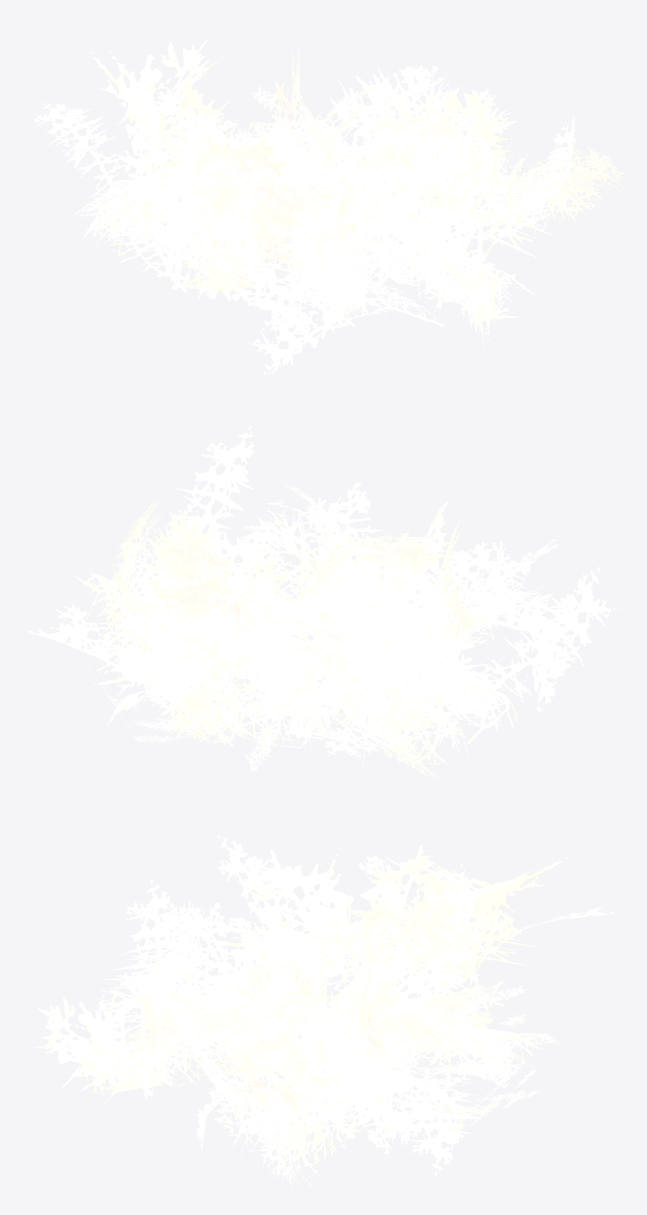
The picture shows the model from 3 angles, top to bottom: view 1: azimuth 30°, elevation 25°; view 2: azimuth 150°, elevation 25°; view 3: azimuth 270°, elevation 25°; orthographic projection. The views are drawn at different scales.
Parts seen in each view (by area): view 1: SM_Gorse_05_LOD0; view 2: SM_Gorse_05_LOD0; view 3: SM_Gorse_05_LOD0.
Part boxes in pixels (x1,y1,x2,y2): SM_Gorse_05_LOD0: (27,37,623,374); SM_Gorse_05_LOD0: (28,425,620,781); SM_Gorse_05_LOD0: (26,835,620,1191).
Bounding box in the file's own units: 1.88 × 0.9345 × 2.07.
1 material, 1 textured.
